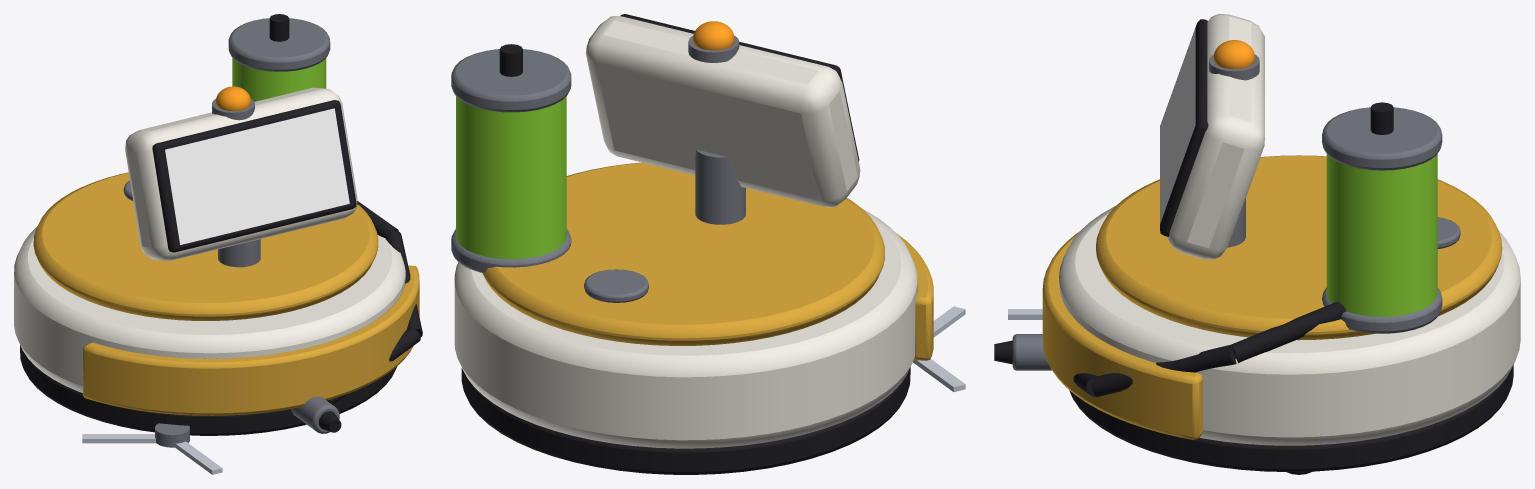
File: floor-care-unit.fbx
3 renders of one model, left to right at view 1: azimuth 30°, elevation 25°; view 2: azimuth 150°, elevation 25°; view 3: azimuth 270°, elevation 25°, orthographic. The views are drawn at different scales.
Visible parts, largest first — view 1: Plate_lid, Chassis, Plate_bumper, Face, Housing, Skirt, Bezel, TankCapTop, AcidTank, Brush, Neck, NozzleBody (+6 smaller); view 2: Chassis, Plate_lid, Housing, AcidTank, Skirt, TankCapTop, Neck, Plate_bumper, LidHandle, TankCapBottom, Brush, Beacon (+3 smaller); view 3: Chassis, Plate_lid, AcidTank, Housing, Plate_bumper, Skirt, TankCapTop, Face, Bezel, Hose1, Hose2, TankCapBottom (+5 smaller).
Part boxes in pixels (x1,y1,x2,y2): Plate_lid: (33, 172, 378, 320); Chassis: (14, 226, 405, 392); Plate_bumper: (83, 265, 419, 415); Face: (165, 108, 349, 244); Housing: (125, 87, 357, 260); Skirt: (20, 345, 397, 435); Bezel: (152, 100, 356, 252); TankCapTop: (228, 18, 330, 71); AcidTank: (232, 58, 326, 101); Brush: (82, 423, 222, 474); Neck: (218, 239, 260, 267); NozzleBody: (291, 396, 339, 433); Chassis: (454, 209, 917, 448); Plate_lid: (482, 162, 884, 345); Housing: (585, 16, 860, 207); AcidTank: (456, 96, 566, 259); Skirt: (461, 367, 910, 474); TankCapTop: (451, 49, 571, 112); Neck: (695, 149, 745, 224); Plate_bumper: (897, 234, 933, 360); LidHandle: (584, 269, 648, 302); TankCapBottom: (451, 229, 571, 273); Brush: (913, 306, 965, 391); Beacon: (693, 21, 734, 50); Chassis: (1059, 205, 1520, 445); Plate_lid: (1096, 155, 1502, 340); AcidTank: (1326, 154, 1437, 316); Housing: (1167, 14, 1264, 259); Plate_bumper: (1042, 231, 1202, 439); Skirt: (1069, 365, 1513, 471); TankCapTop: (1322, 107, 1442, 170); Face: (1160, 28, 1195, 223); Bezel: (1160, 19, 1208, 236); Hose1: (1231, 302, 1346, 363); Hose2: (1091, 345, 1236, 396); TankCapBottom: (1322, 287, 1442, 333).
Bounding box in the file's own units: 1.04 × 0.826 × 1.14.
